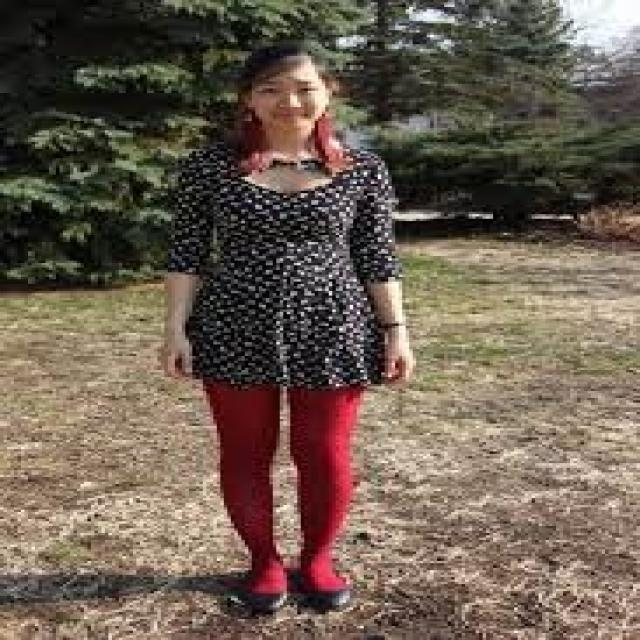walking: (121, 36, 429, 627)
